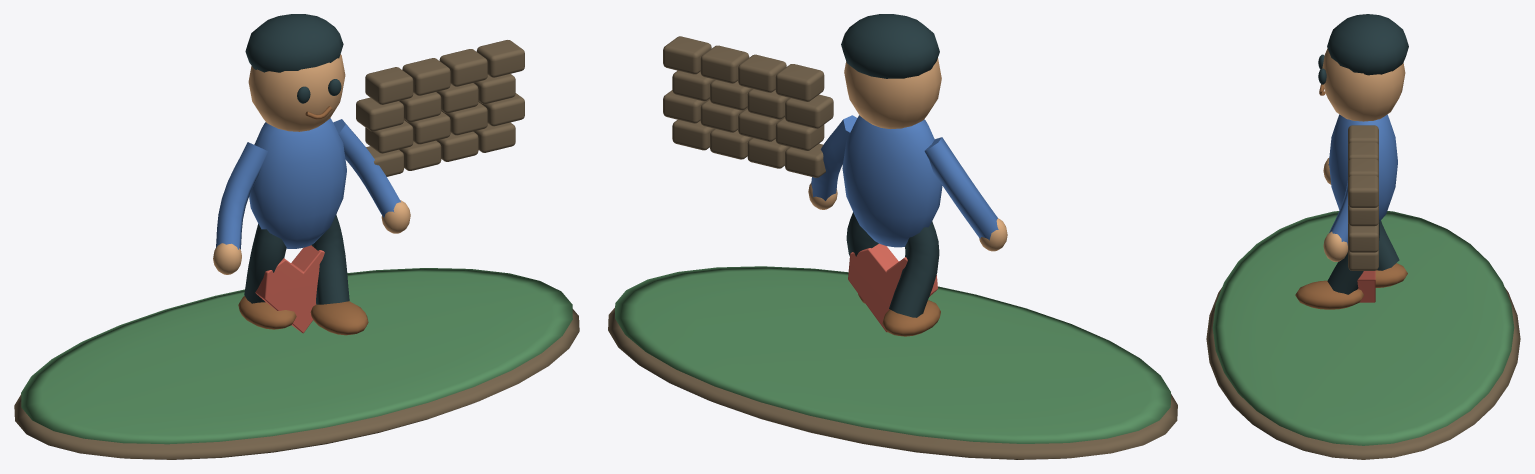
The model's file is complete-first-dare-the-obstacle.glb.
3 views of the same model, side by side, from view 1: azimuth 30°, elevation 25°; view 2: azimuth 150°, elevation 25°; view 3: azimuth 270°, elevation 25° (orthographic). The views are drawn at different scales.
Parts seen in each view (by area): view 1: complete-first-dare-the-obstacle_surface_01, complete-first-dare-the-obstacle_surface_00, complete-first-dare-the-obstacle_surface_05, complete-first-dare-the-obstacle_surface_03, complete-first-dare-the-obstacle_surface_02, complete-first-dare-the-obstacle_surface_06, complete-first-dare-the-obstacle_surface_04; view 2: complete-first-dare-the-obstacle_surface_01, complete-first-dare-the-obstacle_surface_00, complete-first-dare-the-obstacle_surface_05, complete-first-dare-the-obstacle_surface_03, complete-first-dare-the-obstacle_surface_02, complete-first-dare-the-obstacle_surface_06, complete-first-dare-the-obstacle_surface_04; view 3: complete-first-dare-the-obstacle_surface_01, complete-first-dare-the-obstacle_surface_00, complete-first-dare-the-obstacle_surface_03, complete-first-dare-the-obstacle_surface_02, complete-first-dare-the-obstacle_surface_05, complete-first-dare-the-obstacle_surface_04, complete-first-dare-the-obstacle_surface_06.
Part boxes in pixels (x1,y1,x2,y2): complete-first-dare-the-obstacle_surface_01: (21, 268, 572, 444); complete-first-dare-the-obstacle_surface_00: (14, 40, 579, 459); complete-first-dare-the-obstacle_surface_05: (215, 118, 400, 249); complete-first-dare-the-obstacle_surface_03: (244, 14, 349, 304); complete-first-dare-the-obstacle_surface_02: (213, 54, 410, 274); complete-first-dare-the-obstacle_surface_06: (255, 245, 324, 333); complete-first-dare-the-obstacle_surface_04: (238, 106, 368, 335); complete-first-dare-the-obstacle_surface_01: (615, 266, 1170, 443); complete-first-dare-the-obstacle_surface_00: (608, 36, 1177, 459); complete-first-dare-the-obstacle_surface_05: (811, 115, 998, 247); complete-first-dare-the-obstacle_surface_03: (841, 14, 939, 317); complete-first-dare-the-obstacle_surface_02: (808, 58, 1007, 251); complete-first-dare-the-obstacle_surface_06: (848, 243, 937, 332); complete-first-dare-the-obstacle_surface_04: (858, 294, 940, 336); complete-first-dare-the-obstacle_surface_01: (1212, 211, 1514, 445); complete-first-dare-the-obstacle_surface_00: (1206, 125, 1520, 459); complete-first-dare-the-obstacle_surface_03: (1318, 14, 1408, 294); complete-first-dare-the-obstacle_surface_02: (1322, 48, 1405, 261); complete-first-dare-the-obstacle_surface_05: (1328, 114, 1397, 245); complete-first-dare-the-obstacle_surface_04: (1295, 84, 1407, 309); complete-first-dare-the-obstacle_surface_06: (1357, 270, 1375, 302).
Bounding box in the file's own units: 4.56 × 2.93 × 2.5.
